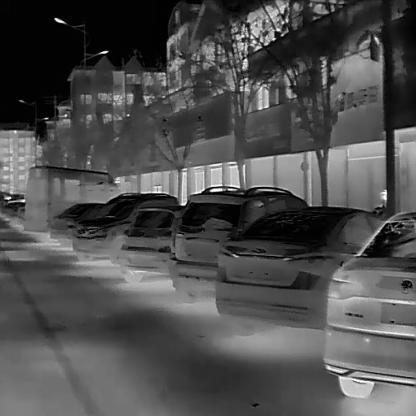car: (214, 206, 385, 337), (326, 211, 415, 400), (170, 184, 308, 305), (71, 191, 177, 265), (23, 164, 118, 242), (118, 202, 187, 285), (48, 201, 105, 249)
